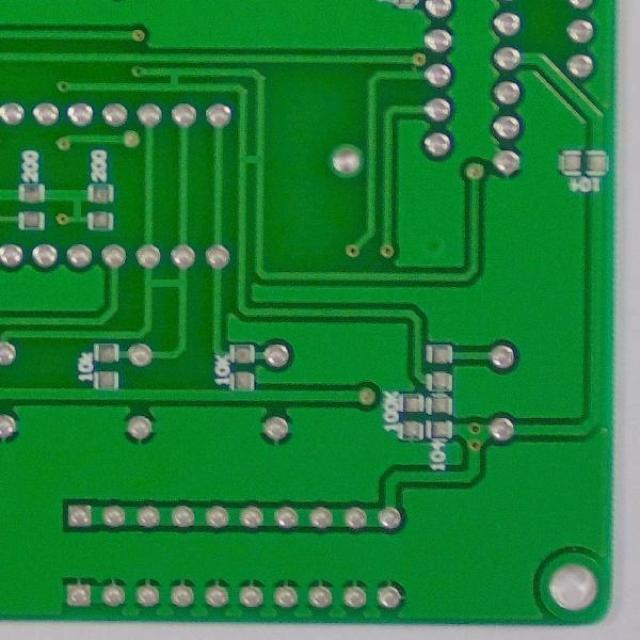Short_Circuit: (136, 269, 196, 301), (232, 144, 270, 176), (159, 62, 190, 96), (64, 184, 87, 228)
